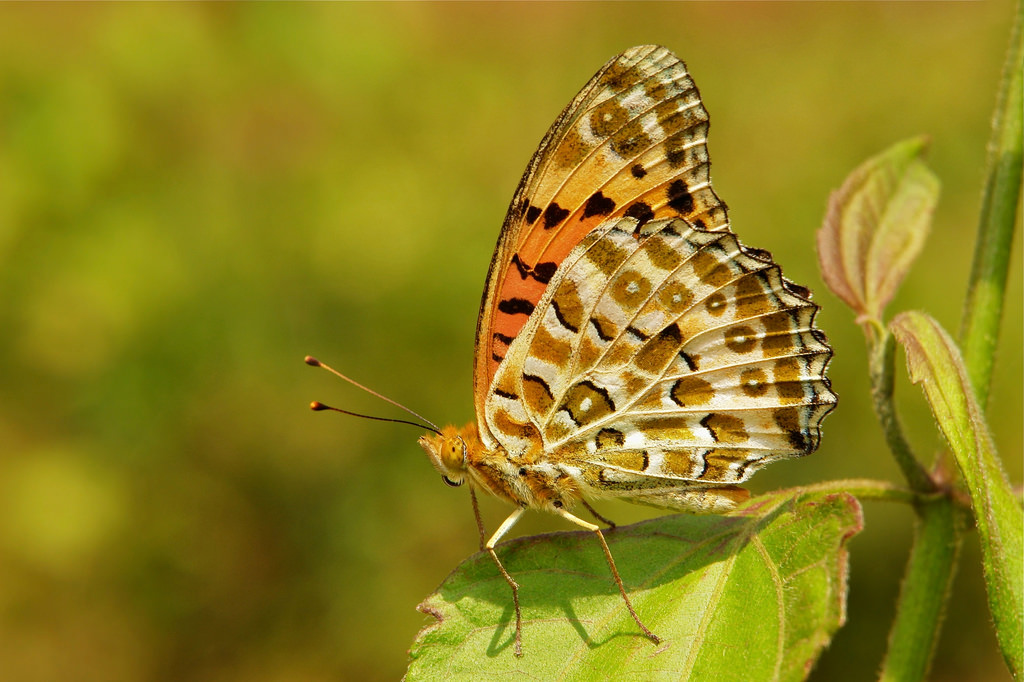Argyreus hyperbius: (304, 32, 844, 661)
butterfly: (306, 34, 846, 663)
